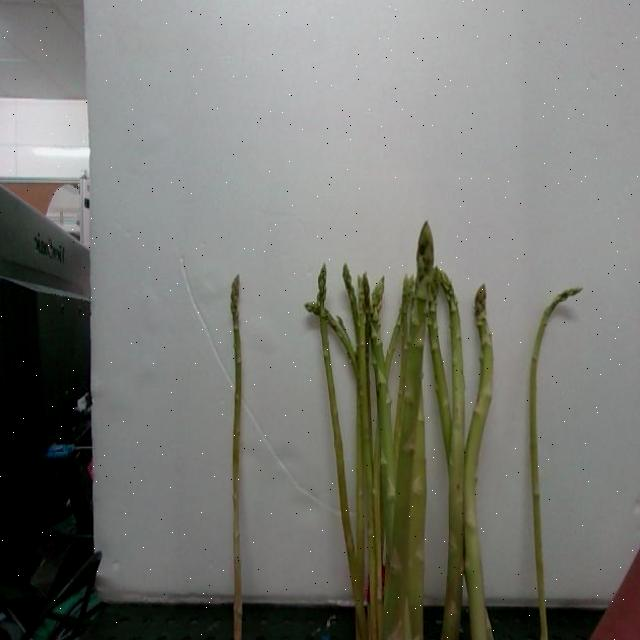aspargus: (525, 288, 582, 640), (225, 272, 252, 640)
